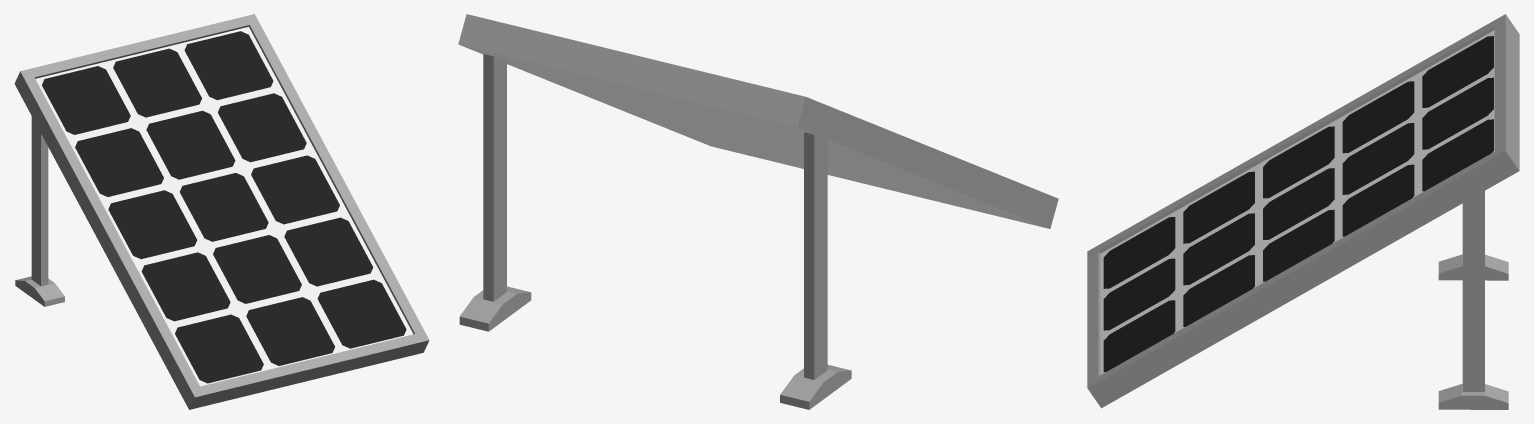
Rendered from Solar Panel Ground.glb.
The picture shows the model from 3 angles, left to right: view 1: azimuth 30°, elevation 25°; view 2: azimuth 150°, elevation 25°; view 3: azimuth 270°, elevation 25°; orthographic projection. The views are drawn at different scales.
Parts seen in each view (by area): view 1: SolarPanel_Ground; view 2: SolarPanel_Ground; view 3: SolarPanel_Ground.
Part boxes in pixels (x1,y1,x2,y2): SolarPanel_Ground: (14,14,429,409); SolarPanel_Ground: (458,14,1058,409); SolarPanel_Ground: (1087,14,1519,409).
Size of the model in its own units: 1.29 by 1.1 by 1.67.
1 material, 1 textured.
